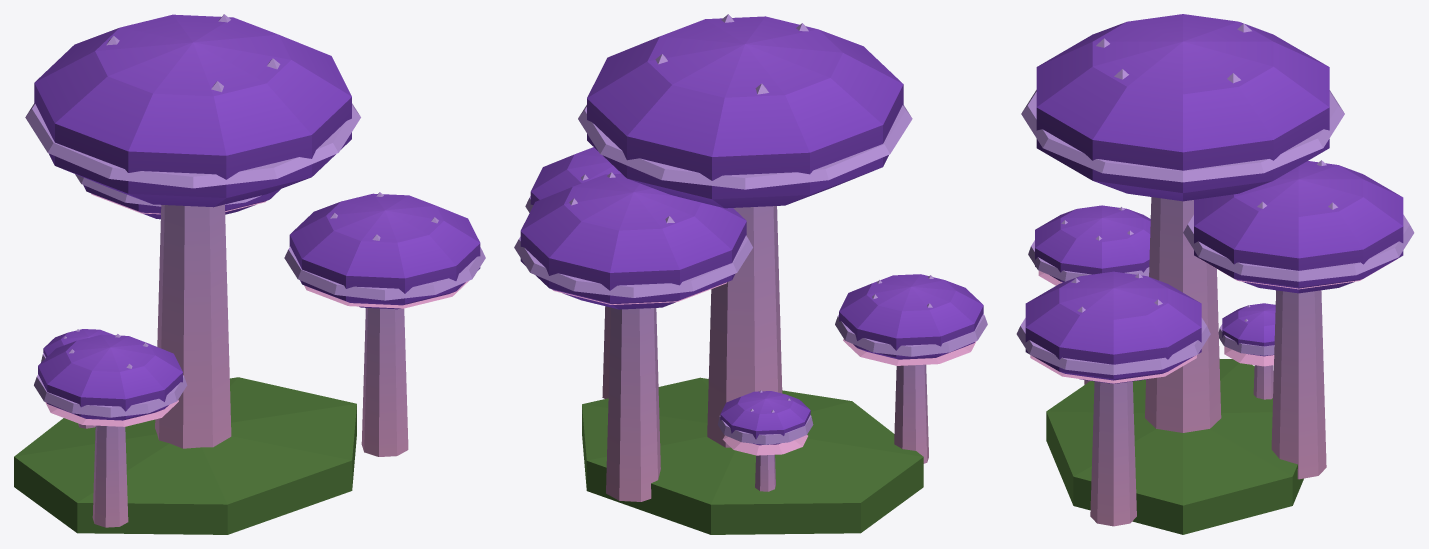
Rendered from neon_mushrooms_violet.glb.
3 renders of one model, left to right at view 1: azimuth 30°, elevation 25°; view 2: azimuth 150°, elevation 25°; view 3: azimuth 270°, elevation 25°, orthographic. The views are drawn at different scales.
Parts seen in each view (by area): view 1: neon_mushrooms_violet; view 2: neon_mushrooms_violet; view 3: neon_mushrooms_violet.
Part boxes in pixels (left/top/right/bottom): neon_mushrooms_violet: left=14, top=14, right=485, bottom=534; neon_mushrooms_violet: left=514, top=14, right=987, bottom=534; neon_mushrooms_violet: left=1016, top=14, right=1414, bottom=534.
Size of the model in its own units: 2.09 by 2.05 by 1.72.
